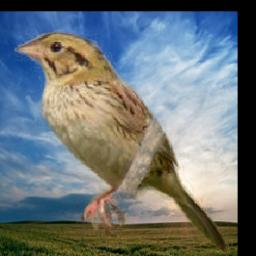Sparrow: (14, 30, 229, 255)
